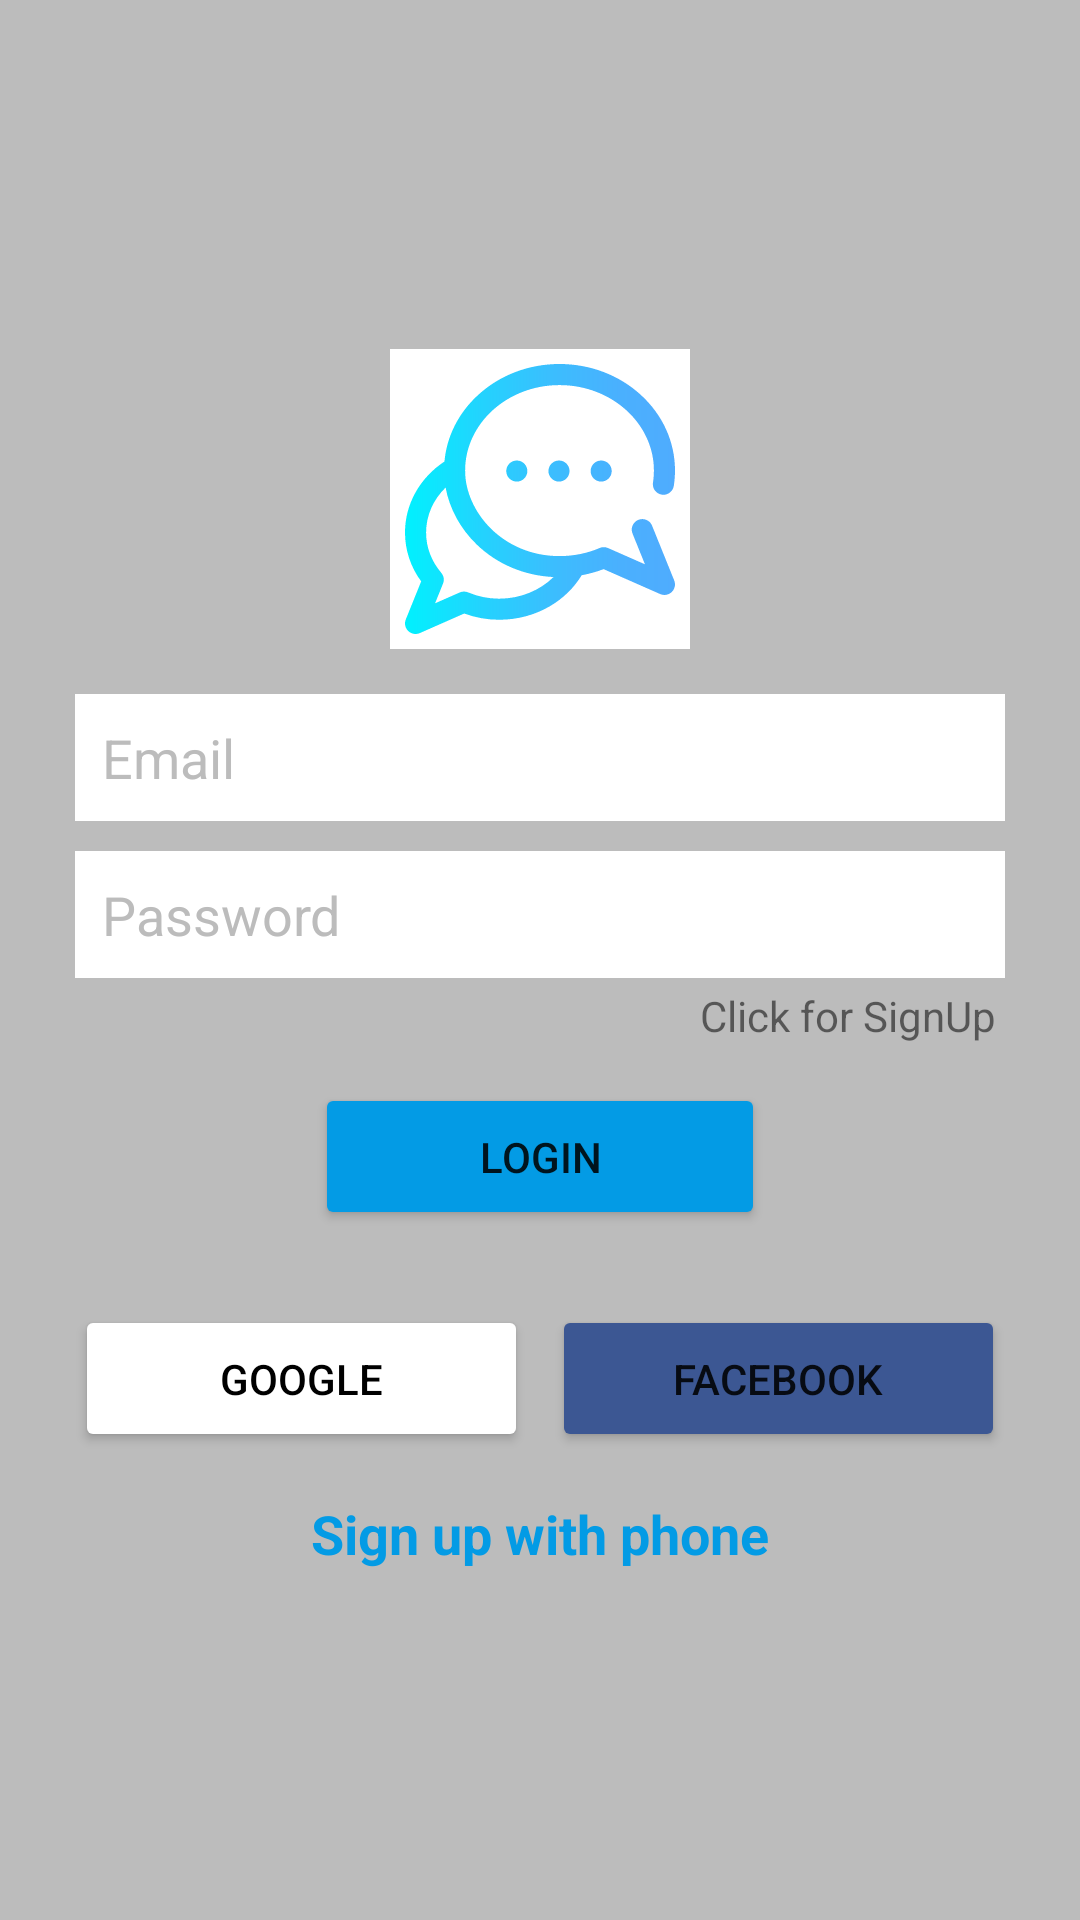

Screen size 1080×1920. Icon name, then its box in pixels as Rect(x1, y1, x2, y2):
chat: Rect(390, 349, 690, 649)
